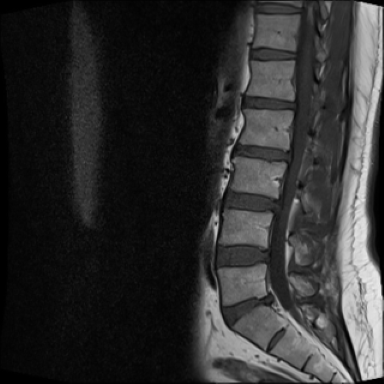Degenerative Disc Disease (DDD): (234, 91, 299, 114)
Lumbar Disc Bulge (LDB): (214, 282, 283, 332), (216, 184, 288, 219), (226, 139, 297, 167)
Normal IVD: (209, 241, 273, 275), (239, 42, 302, 64), (251, 2, 305, 17)
Spinal Stenosis (SS): (266, 192, 289, 219), (261, 284, 280, 311), (279, 145, 298, 169)
